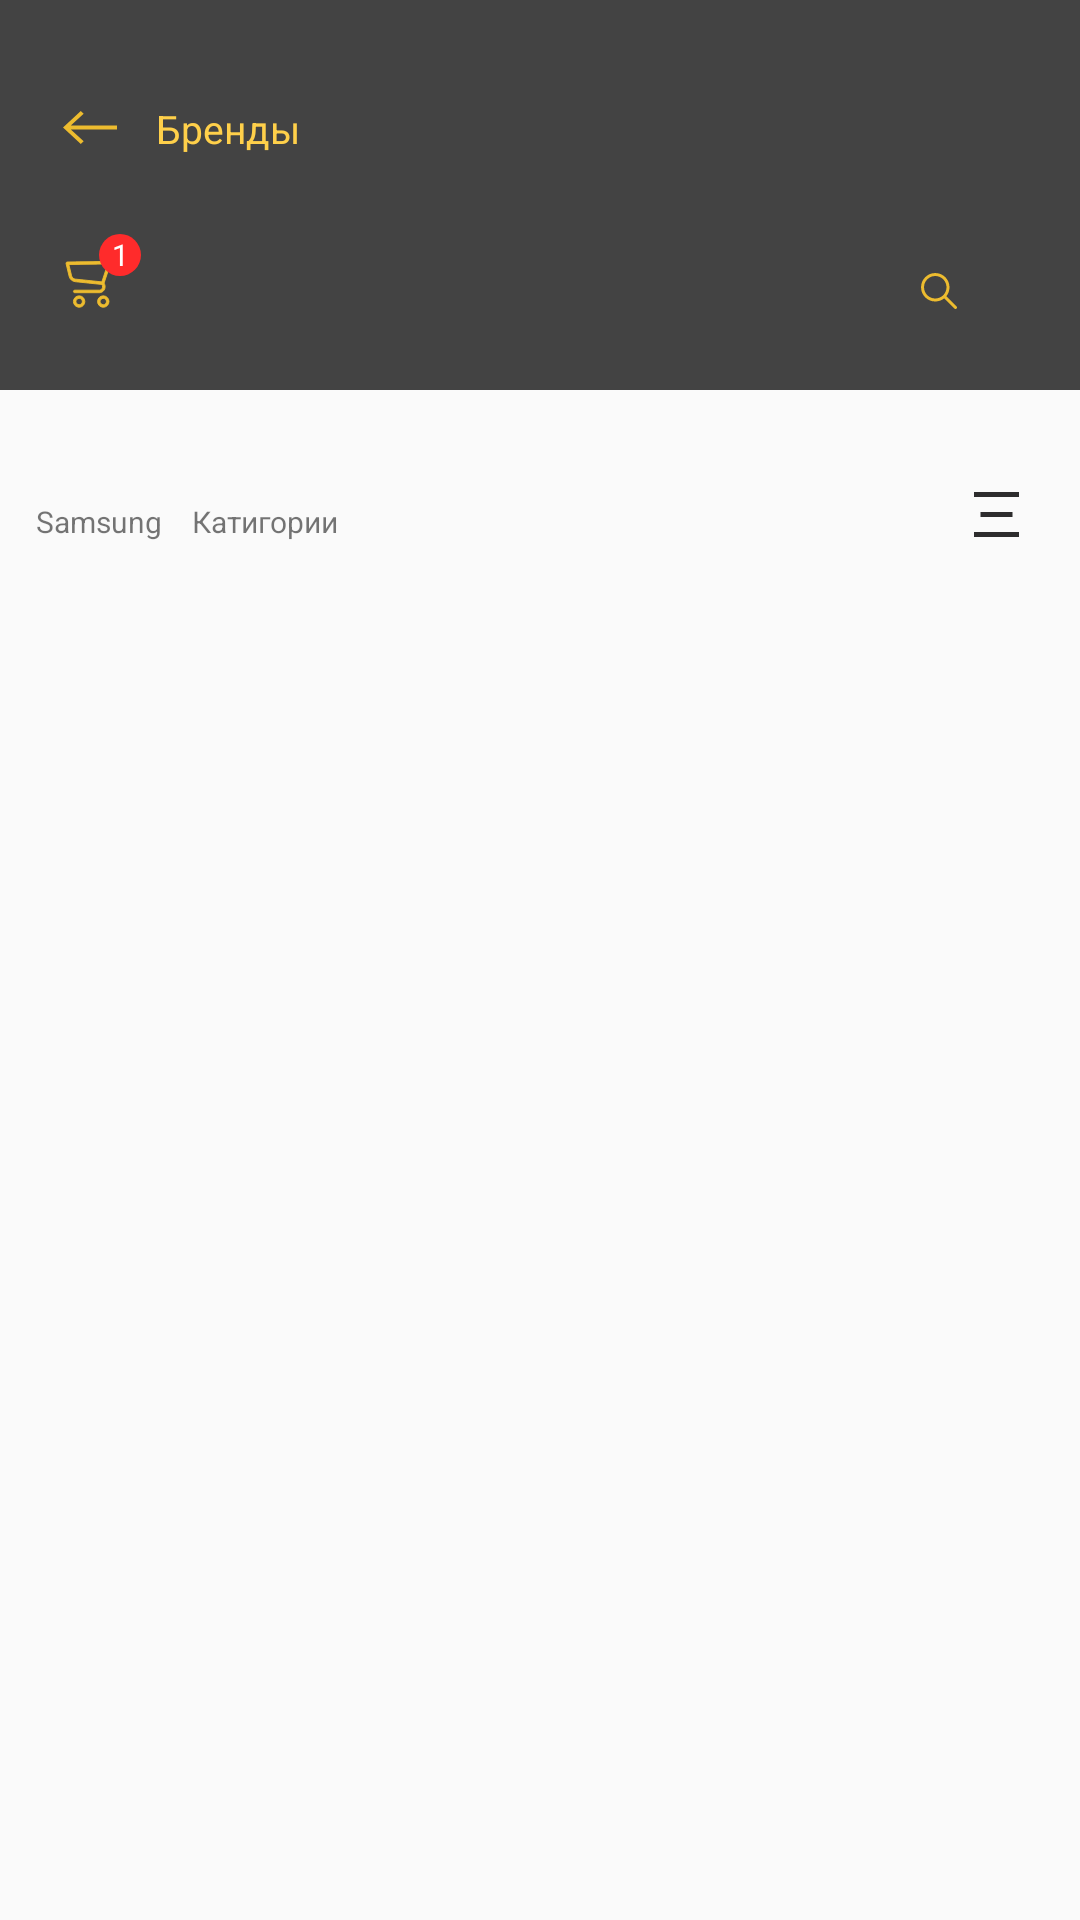

Where to tap for icons on this 1080px x 1920px app screen, as (x,y):
back: (90,127)
shop: (94,279)
